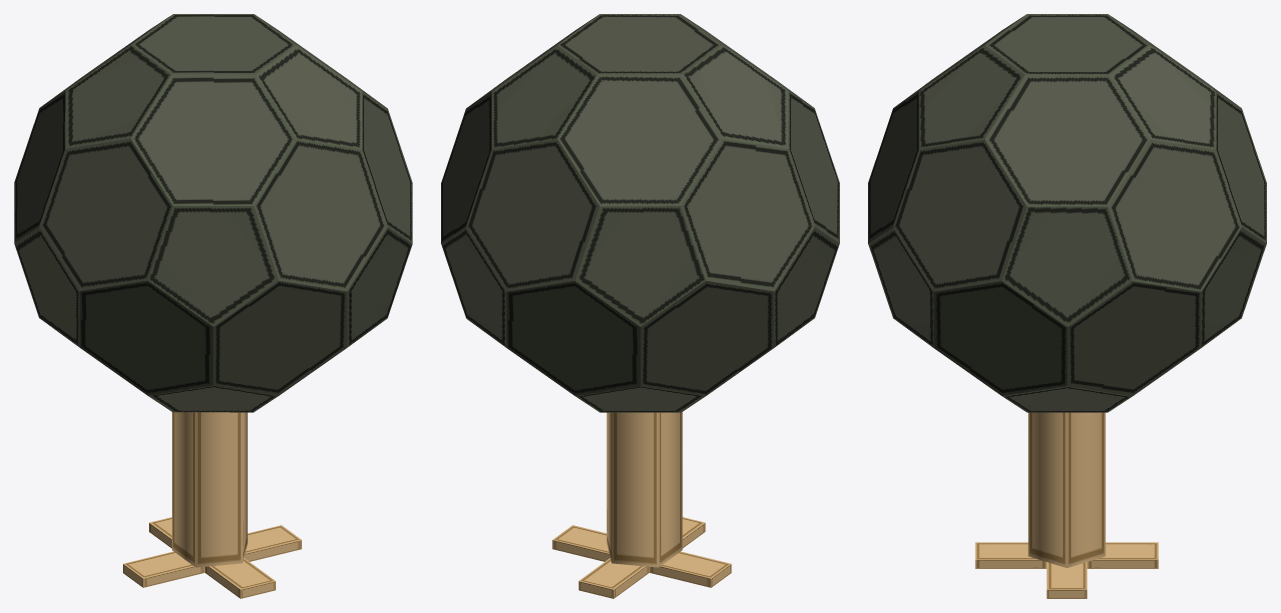
The model's file is Tree015.FBX.
3 views of the same model, side by side, from view 1: azimuth 30°, elevation 25°; view 2: azimuth 150°, elevation 25°; view 3: azimuth 270°, elevation 25° (orthographic).
Visible parts, largest first — view 1: tree015; view 2: tree015; view 3: tree015.
Boxes of the visible parts, box(x1,y1,x2,y2) form: tree015: box(14, 14, 412, 598); tree015: box(441, 14, 839, 598); tree015: box(868, 14, 1266, 598).
Bounding box in the file's own units: 198 × 280 × 196.
Materials: 1 (1 with a texture image).
